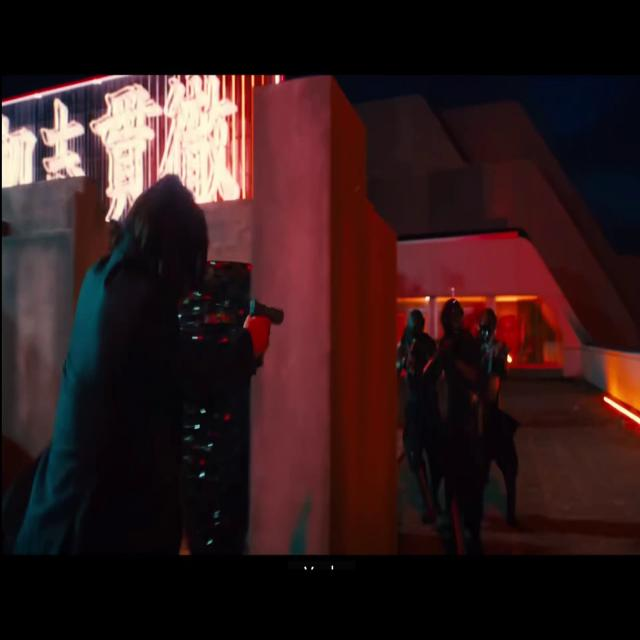weapons: (239, 271, 291, 383)
